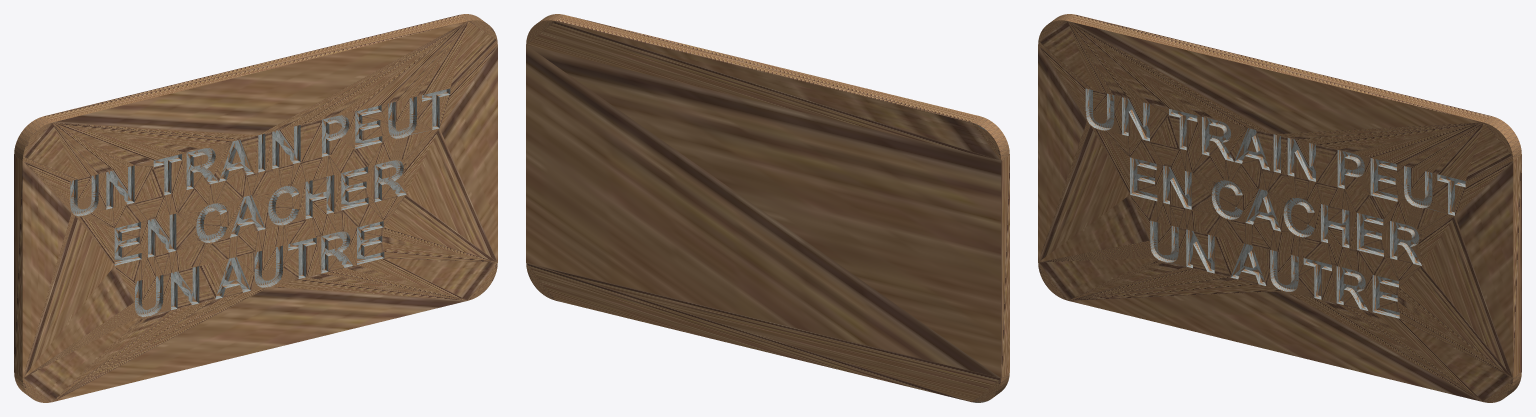
File: poto.obj
The picture shows the model from 3 angles, left to right: view 1: azimuth 30°, elevation 25°; view 2: azimuth 150°, elevation 25°; view 3: azimuth 330°, elevation 25°; orthographic projection.
Visible parts, largest first — view 1: pannal_v1; view 2: pannal_v1; view 3: pannal_v1.
Part boxes in pixels (x1=…): pannal_v1: x1=14, y1=14, x2=497, y2=402; pannal_v1: x1=526, y1=14, x2=1009, y2=402; pannal_v1: x1=1038, y1=14, x2=1521, y2=402.
Size of the model in its own units: 3.2 by 1.8 by 0.1.
1 material, 1 textured.
